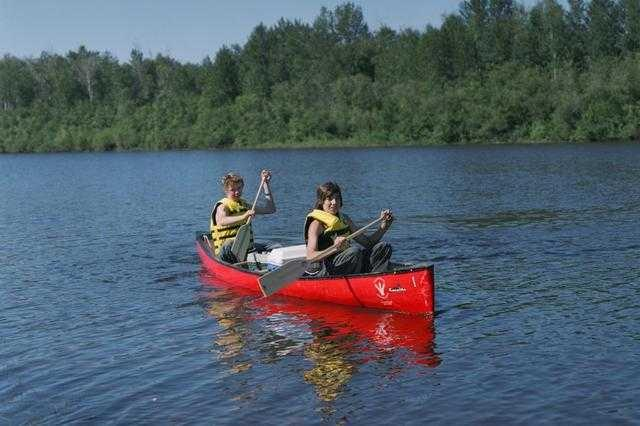kayak: (195, 233, 435, 316)
